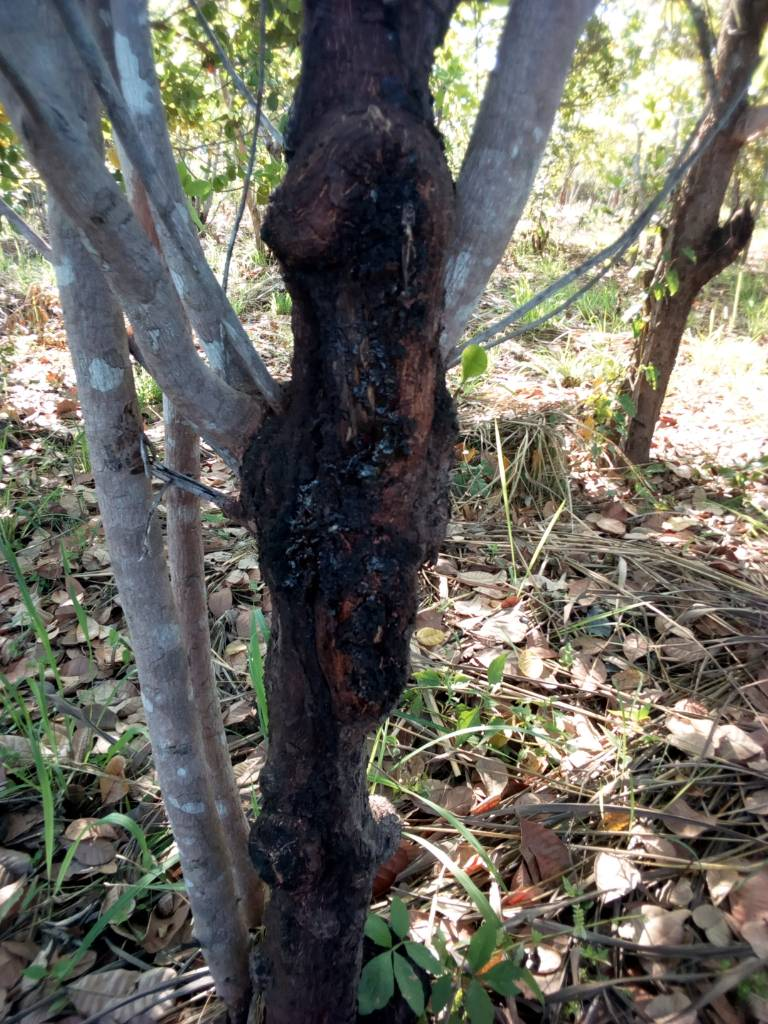Mecocorynus longiceps: (344, 138, 473, 338), (313, 552, 433, 739), (247, 438, 357, 621), (327, 345, 430, 497)
